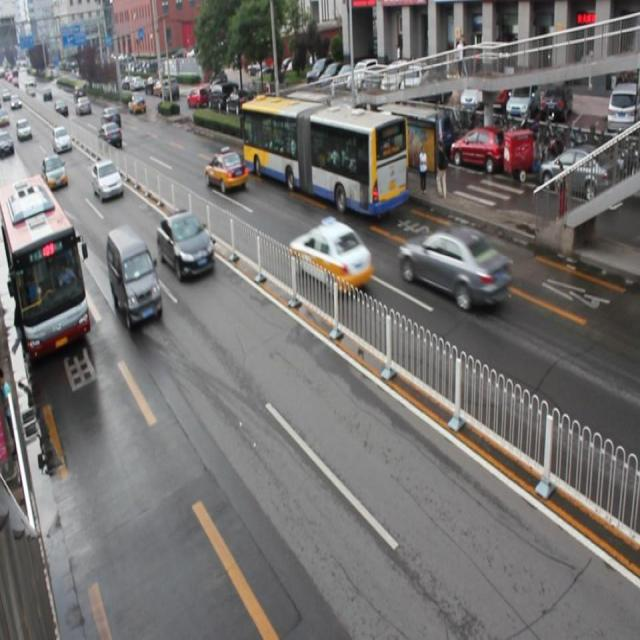car: (398, 223, 510, 308), (289, 218, 373, 292), (157, 210, 214, 279), (205, 145, 246, 192), (92, 159, 124, 200), (43, 153, 67, 190)
truck: (106, 223, 163, 329)
van: (240, 90, 407, 218), (1, 178, 90, 360)
